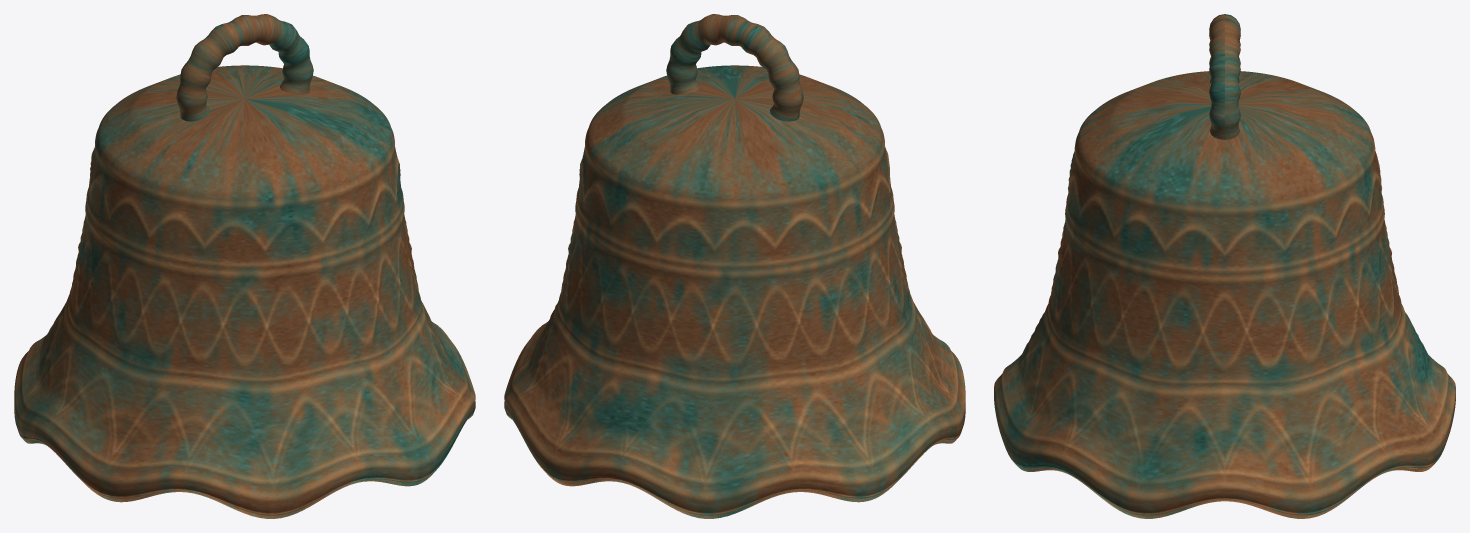
Rendered from tide-bell.glb.
3 renders of one model, left to right at view 1: azimuth 30°, elevation 25°; view 2: azimuth 150°, elevation 25°; view 3: azimuth 270°, elevation 25°, orthographic.
Parts seen in each view (by area): view 1: Tide Bell; view 2: Tide Bell; view 3: Tide Bell.
Part boxes in pixels (box(x1,y1,x2,y2)): Tide Bell: box(14, 14, 475, 518); Tide Bell: box(504, 14, 965, 518); Tide Bell: box(994, 14, 1455, 518).
Bounding box in the file's own units: 2 × 2.02 × 2.
Materials: 1 (1 with a texture image).
